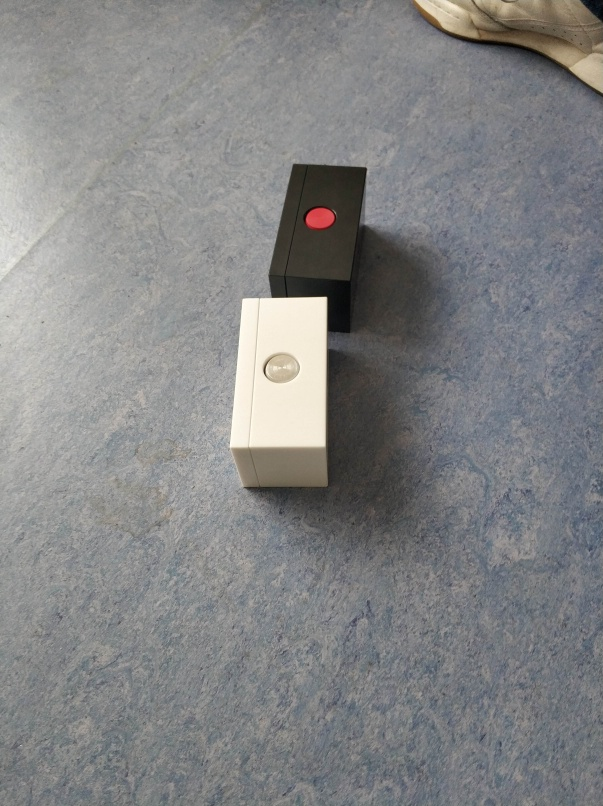black+black+red: (266, 160, 369, 329)
white+white+silver: (232, 296, 334, 490)
